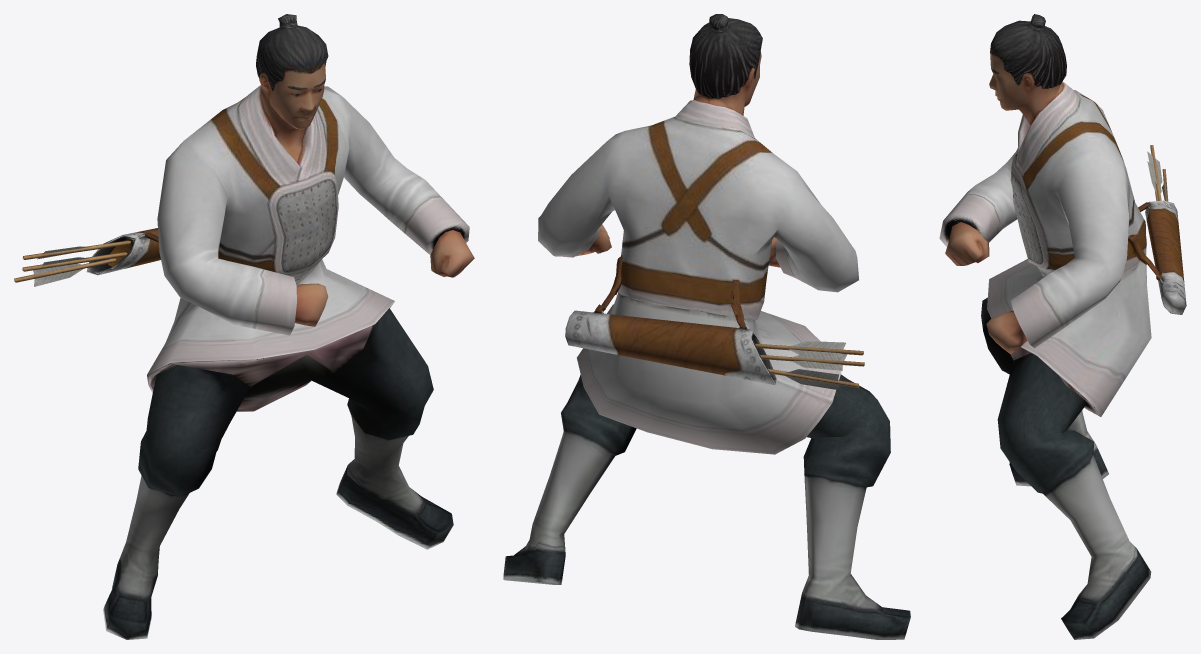
Rendered from rider-slice-base.glb.
3 renders of one model, left to right at view 1: azimuth 30°, elevation 25°; view 2: azimuth 150°, elevation 25°; view 3: azimuth 270°, elevation 25°, orthographic. The views are drawn at different scales.
Size of the model in its own units: 1.32 by 1.88 by 0.7728.
Materials: 1 (1 with a texture image).
